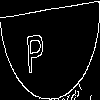P: (25, 24, 46, 74)
